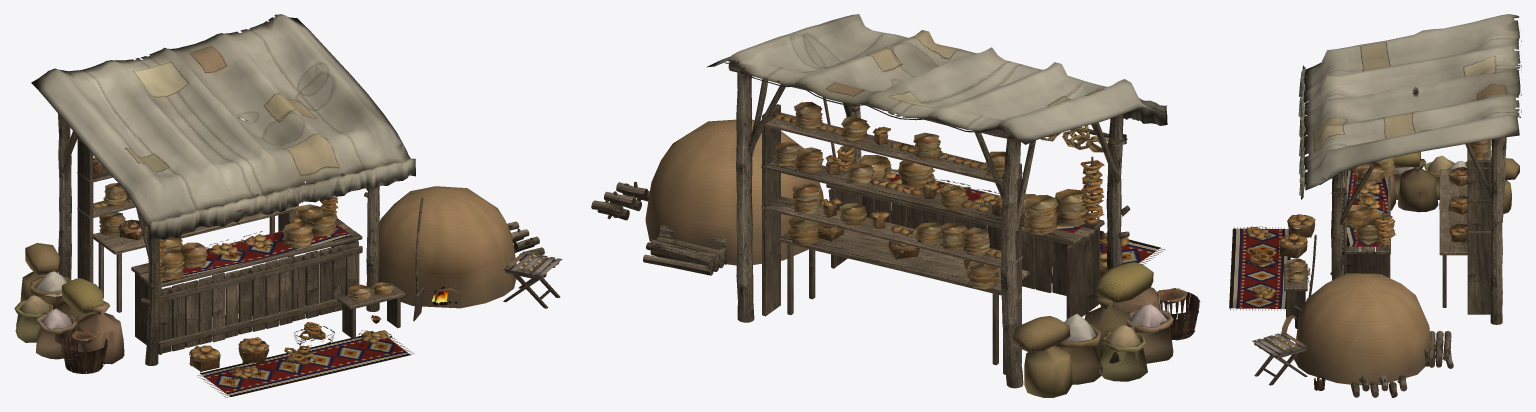
File: village-kiosk-2-v3-lite.glb
3 renders of one model, left to right at view 1: azimuth 30°, elevation 25°; view 2: azimuth 150°, elevation 25°; view 3: azimuth 270°, elevation 25°, orthographic. The views are drawn at different scales.
Parts seen in each view (by area): view 1: K2_Cloth, K2_Props, K2_Wood, K2_Sack, K2_Bark; view 2: K2_Props, K2_Cloth, K2_Wood, K2_Bark, K2_Sack; view 3: K2_Cloth, K2_Props, K2_Wood, K2_Bark, K2_Sack.
Part boxes in pixels (<box>): K2_Cloth: <box>31,14,415,239</box>; K2_Props: <box>19,120,562,397</box>; K2_Wood: <box>77,136,553,354</box>; K2_Sack: <box>14,243,124,364</box>; K2_Bark: <box>58,113,544,365</box>; K2_Props: <box>645,67,1200,349</box>; K2_Cloth: <box>706,14,1167,144</box>; K2_Wood: <box>761,97,1123,374</box>; K2_Bark: <box>591,61,1130,388</box>; K2_Sack: <box>1013,262,1173,397</box>; K2_Cloth: <box>1298,14,1521,199</box>; K2_Props: <box>1229,140,1489,390</box>; K2_Wood: <box>1260,139,1491,354</box>; K2_Bark: <box>1330,89,1506,397</box>; K2_Sack: <box>1390,152,1519,213</box>.
Bounding box in the file's own units: 6.46 × 2.9 × 3.72.
6 materials, 6 textured.
